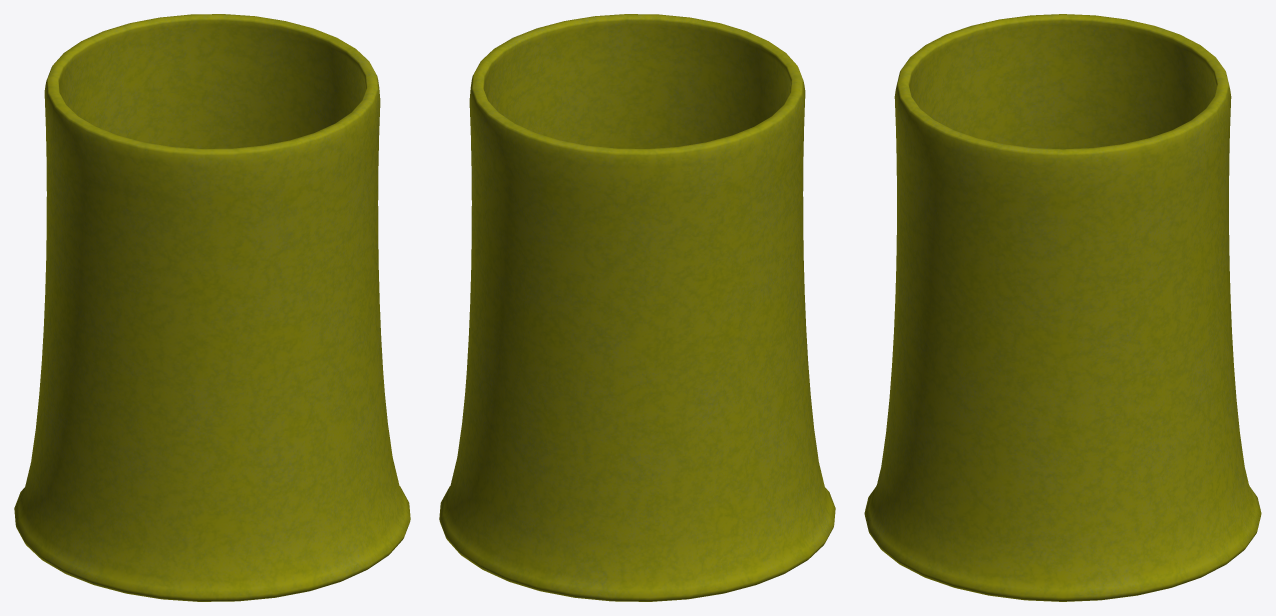
File: taza2.glb
3 renders of one model, left to right at view 1: azimuth 30°, elevation 25°; view 2: azimuth 150°, elevation 25°; view 3: azimuth 270°, elevation 25°, orthographic.
Visible parts, largest first — view 1: taza1.001; view 2: taza1.001; view 3: taza1.001.
Boxes of the visible parts, box(x1,y1,x2,y2) form: taza1.001: box(14, 14, 410, 601); taza1.001: box(439, 14, 835, 601); taza1.001: box(864, 14, 1261, 601).
Bounding box in the file's own units: 0.0809 × 0.0989 × 0.0809.
Materials: 1 (1 with a texture image).
